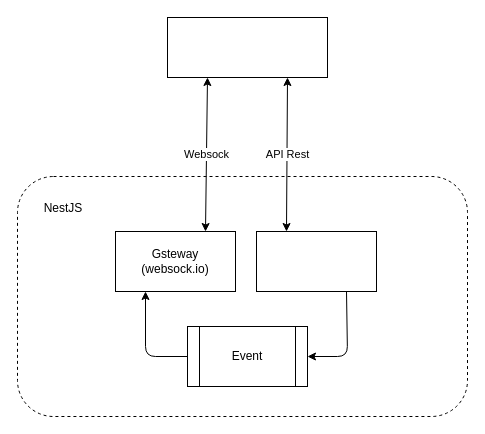
Image size: 485x434. Some labels were removed from this diagram. The box of each missing label's shape, as (x1, y1, x2, y2) in pixels:
Browser: (166, 16, 328, 78)
Module (Controller): (256, 230, 376, 292)
